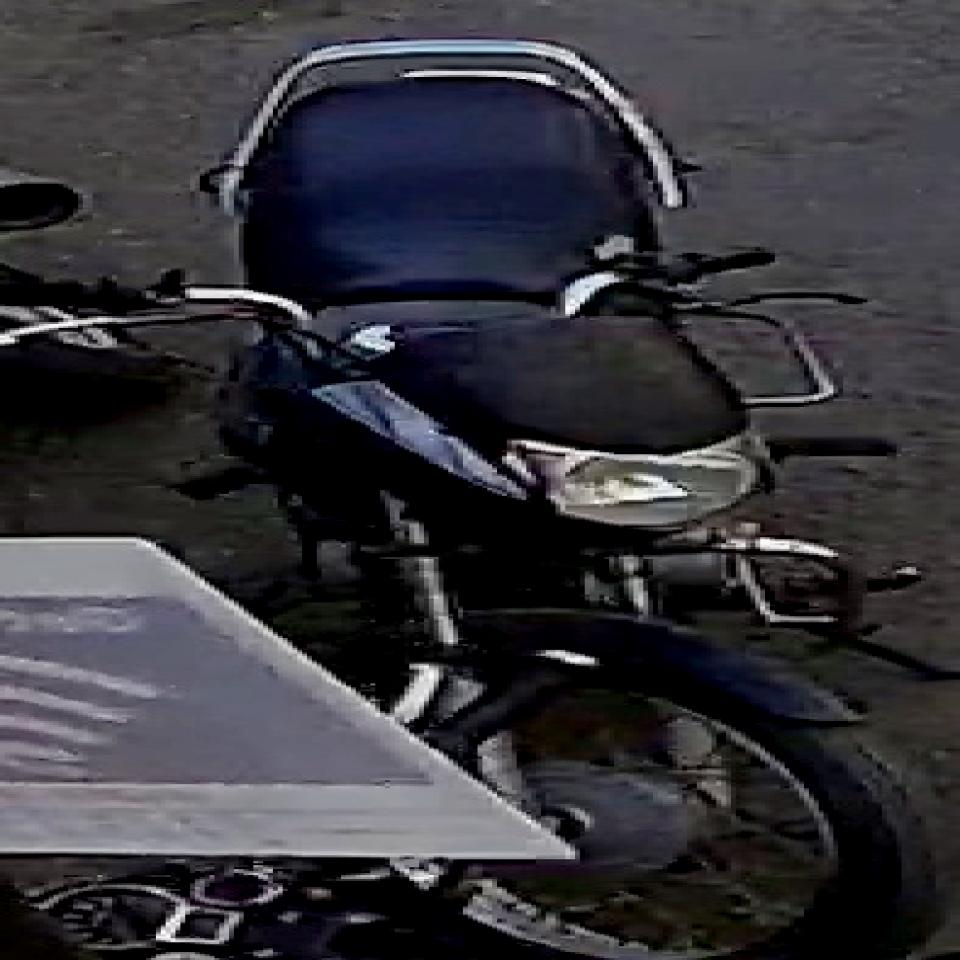head_light: (538, 450, 770, 523)
